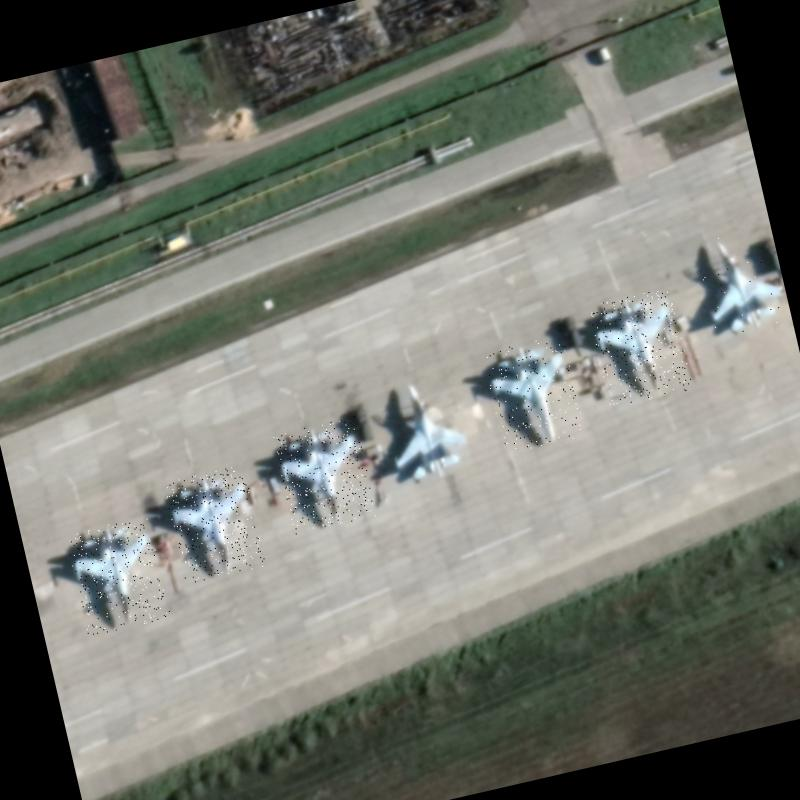A1: (587, 286, 693, 408), (64, 515, 170, 636), (481, 334, 586, 454), (376, 368, 480, 489), (272, 416, 378, 534), (162, 464, 266, 584), (691, 224, 792, 339)
